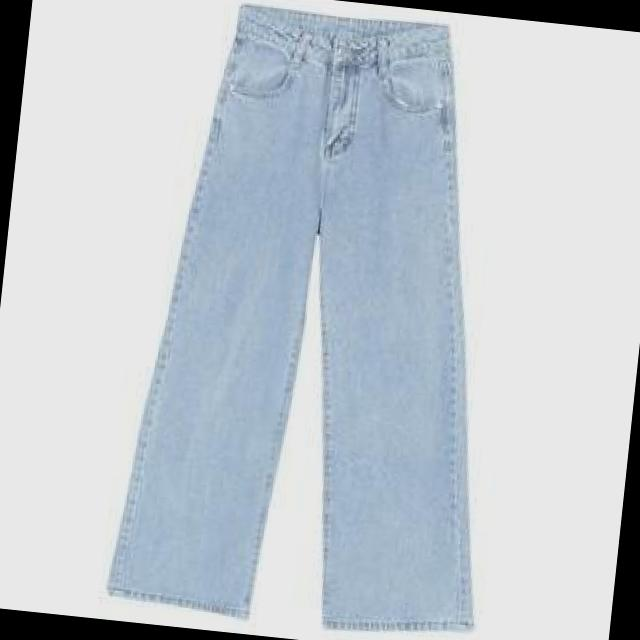pants: (99, 0, 542, 640)
